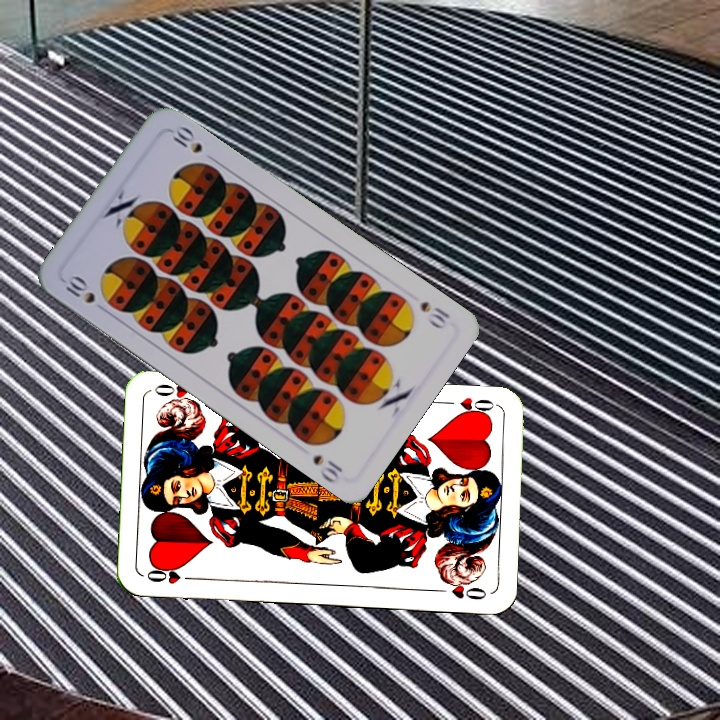HO: (142, 564, 201, 587), (452, 393, 499, 420)
S10: (57, 271, 110, 316), (416, 297, 453, 332)
